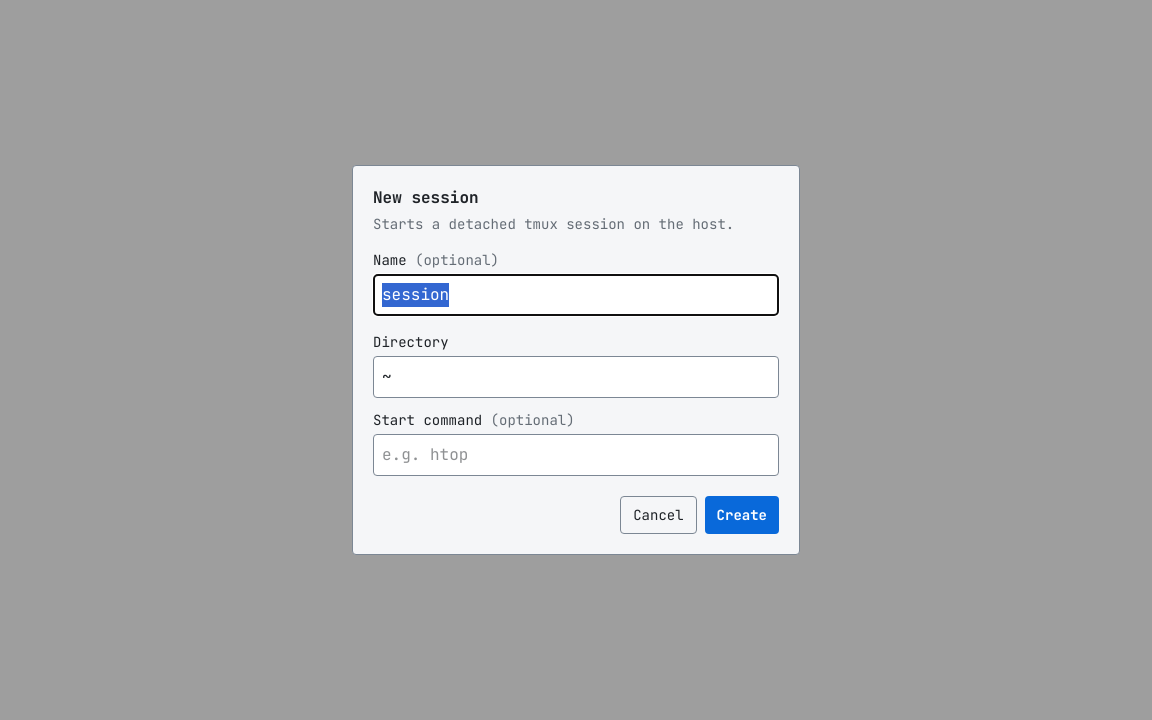
Test: CreateSessionDialog › shows the missing-path error and hint in the dialog and stays open
Replace the text in the field labelled "Name (optional)" with "web" at (576, 295), box [373,274,779,316]
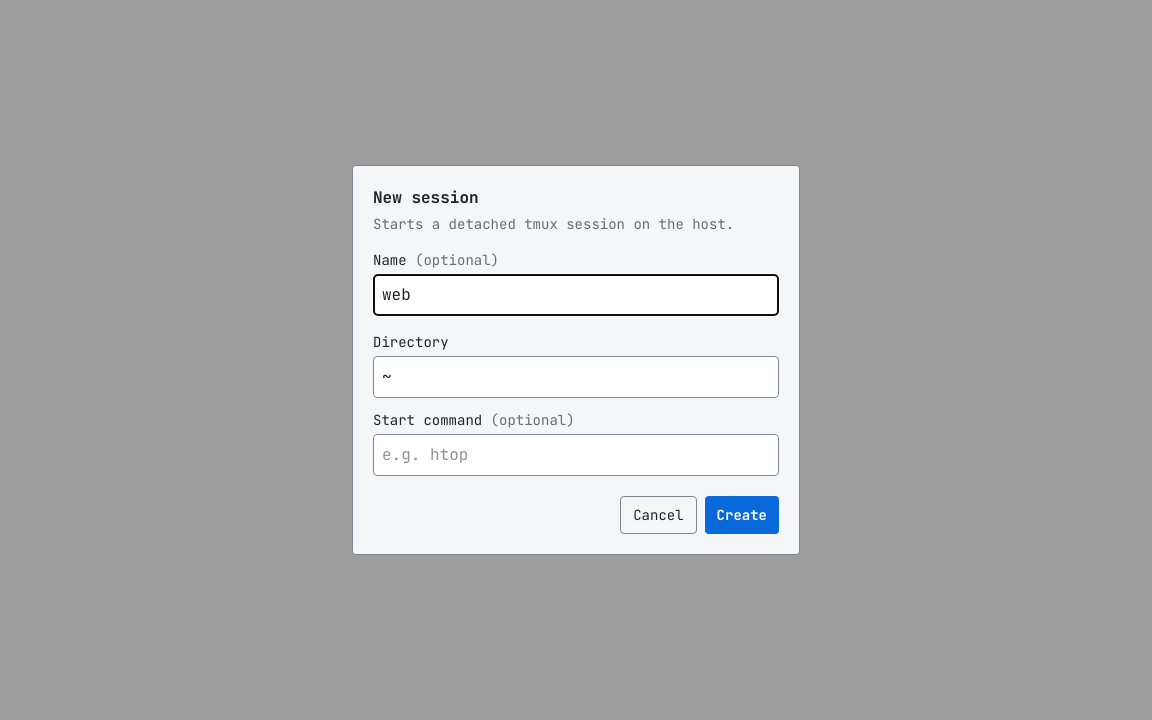
Click the button "Create".
click(742, 515)  # box [705,496,779,534]
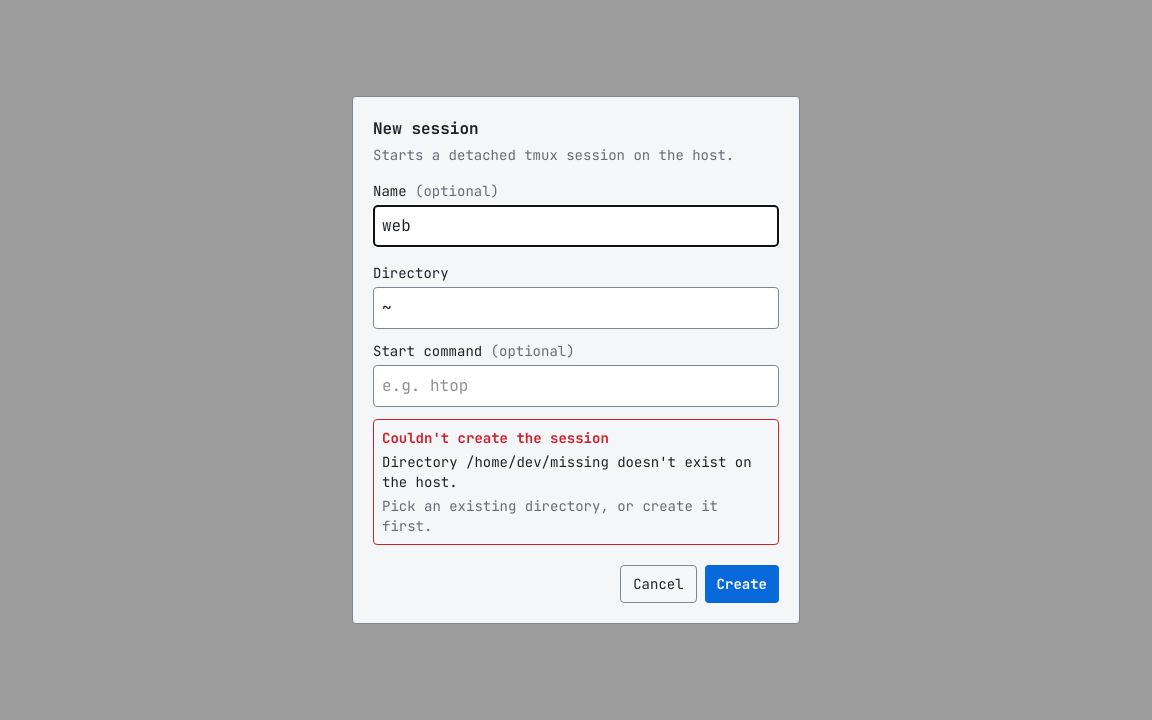
Expected: the message shows "Couldn't create the session", [382,429,609,447]
Expected: the message shows "Directory /home/dev/missing doesn't exist on the host.", [382,453,752,491]
Expected: the message shows "Pick an existing directory", [382,497,718,535]
